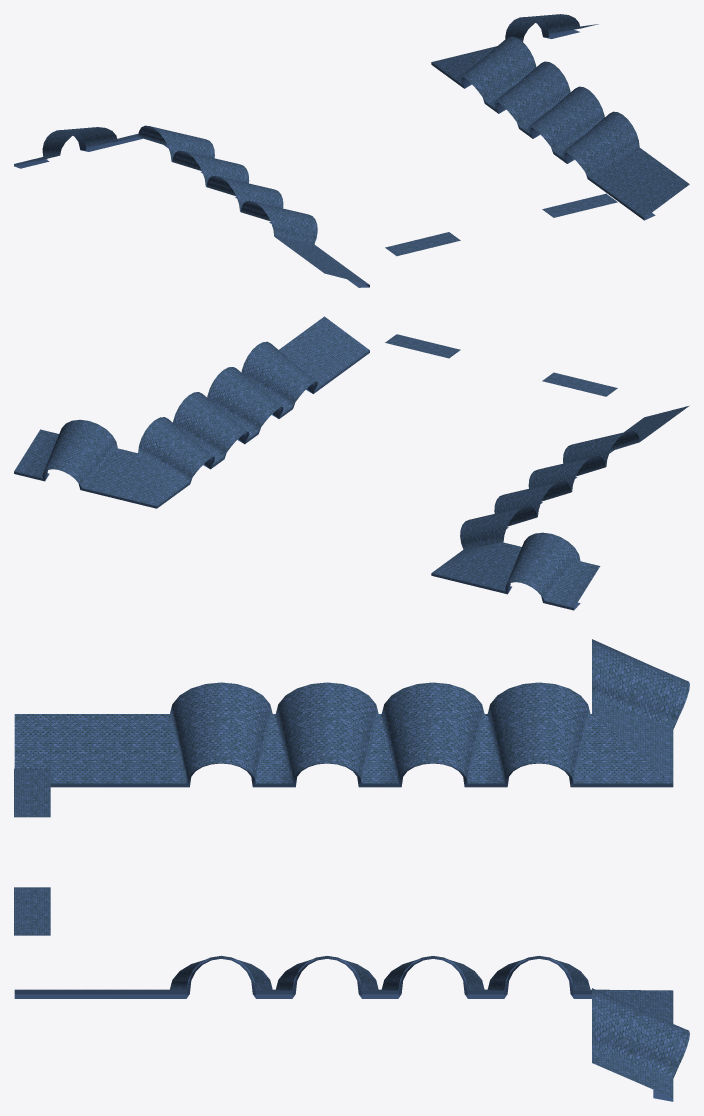
Rendered from steam_roof.fbx.
3 renders of one model, top to bottom at view 1: azimuth 30°, elevation 25°; view 2: azimuth 150°, elevation 25°; view 3: azimuth 270°, elevation 25°, orthographic. The views are drawn at different scales.
Parts seen in each view (by area): view 1: steam_roof; view 2: steam_roof; view 3: steam_roof.
Part boxes in pixels (<box>): steam_roof: <box>14,14,689,287</box>; steam_roof: <box>14,316,689,610</box>; steam_roof: <box>14,639,689,1101</box>.
Size of the model in its own units: 471 by 36.62 by 318.
